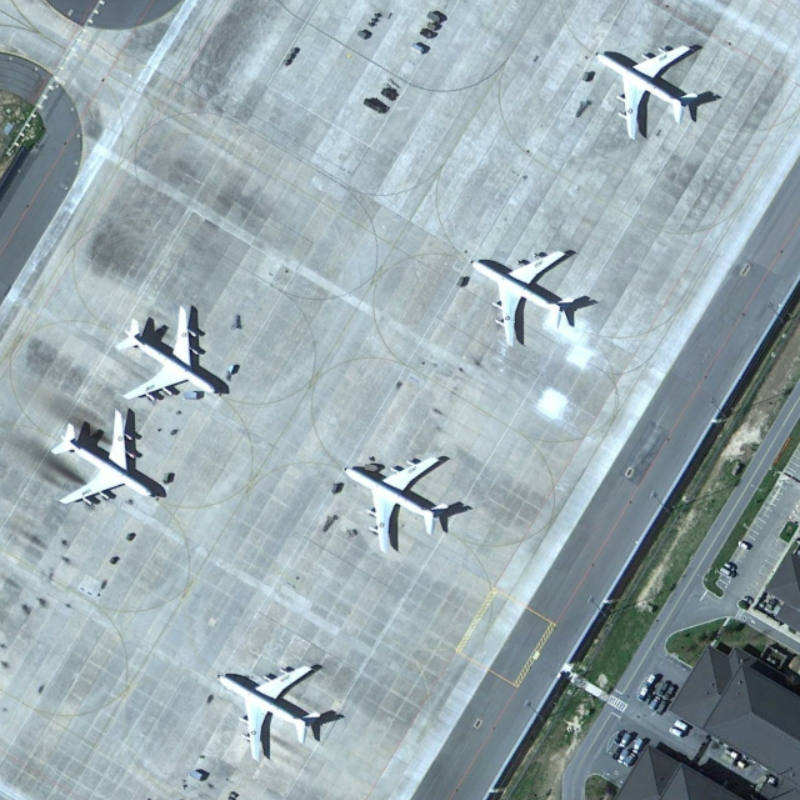A11: (461, 244, 582, 352), (334, 453, 453, 560), (110, 300, 228, 407), (211, 659, 328, 765), (589, 41, 706, 145), (50, 404, 163, 509)
